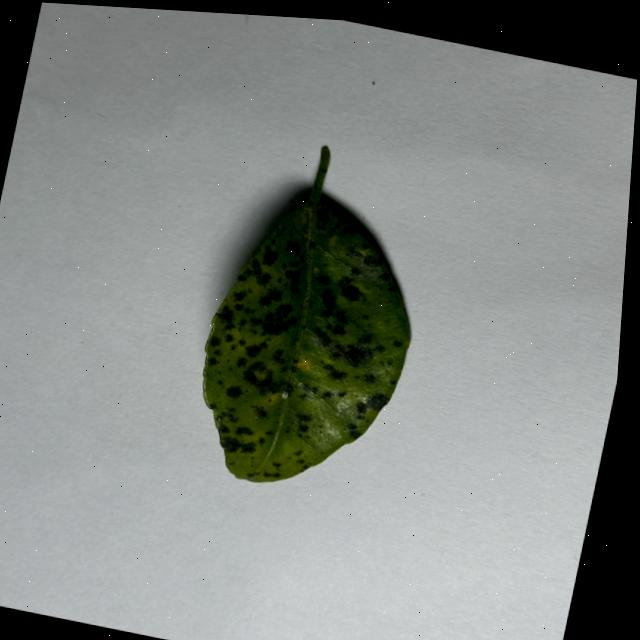sooty_mold: (203, 147, 409, 483)
